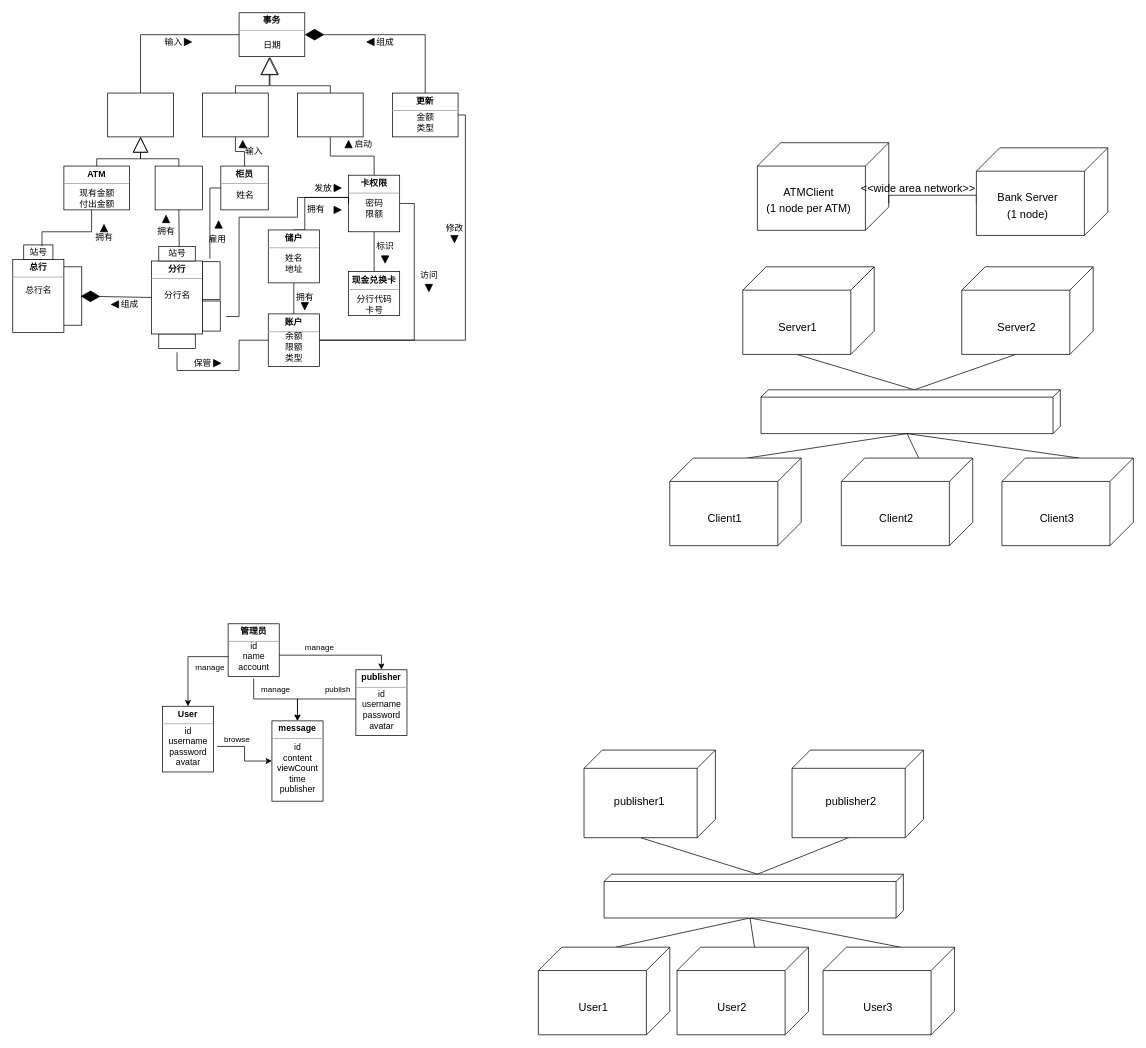
The diagram is 1146 pixels wide and 1048 high, and some of its shapes have lost their labels. Here are the shapes that lost their labels. From the top down, the centre of each, then its label:
At pixel 140 114: "输入站".
At pixel 235 114: "柜员事务".
At pixel 330 114: "远程事务".
At pixel 178 187: "柜员终端".
At pixel 72 295: "分 行 代 码".
At pixel 211 280: "雇 员 号".
At pixel 211 315: "卡 号".
At pixel 176 341: "账号".
At pixel 910 411: "<<local area networks>>".
At pixel 753 895: "<<message>>".
